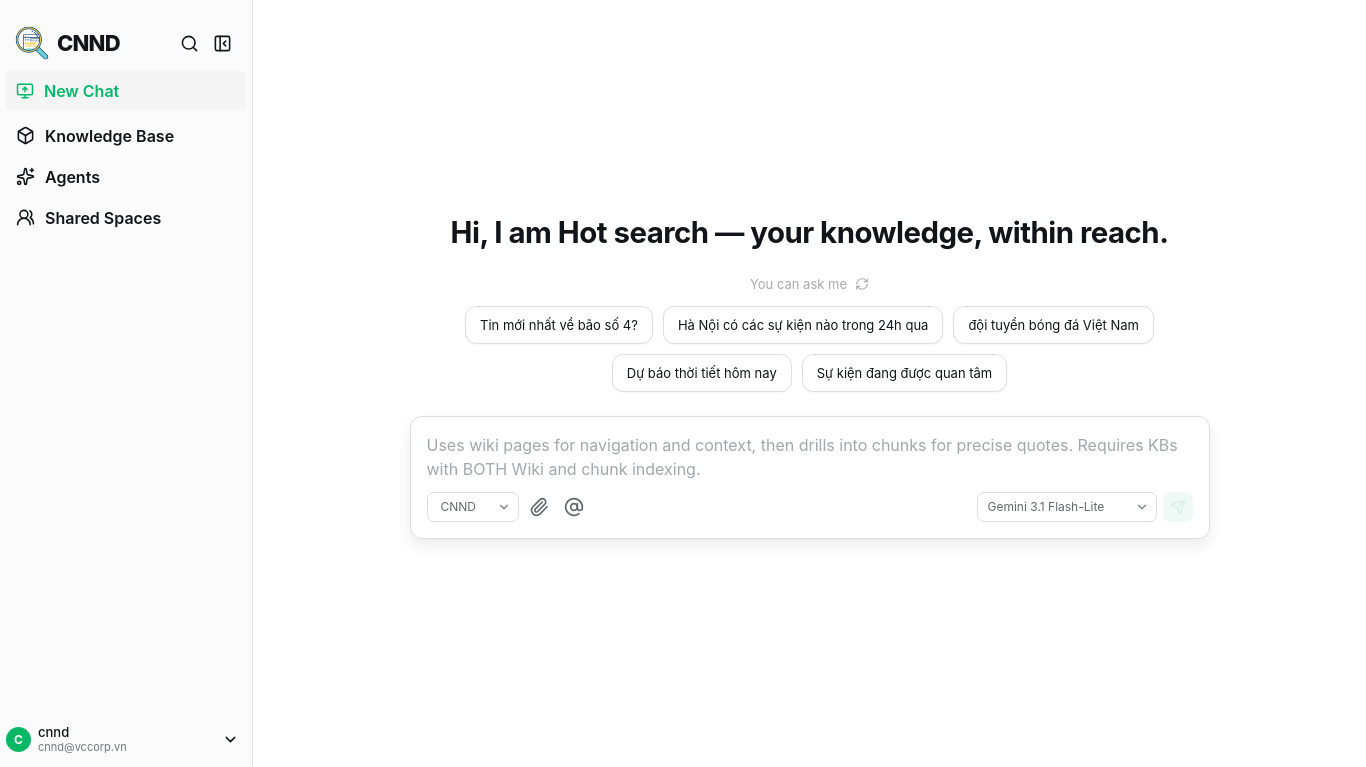
it: cnnd chat UI › loads and appends the next page of events with the backend cursor
Type "Danh sách sự kiện?" into the text box named "Message" at point(810, 460), box [426,433,1192,487]
Then press Enter
(page scrolled)
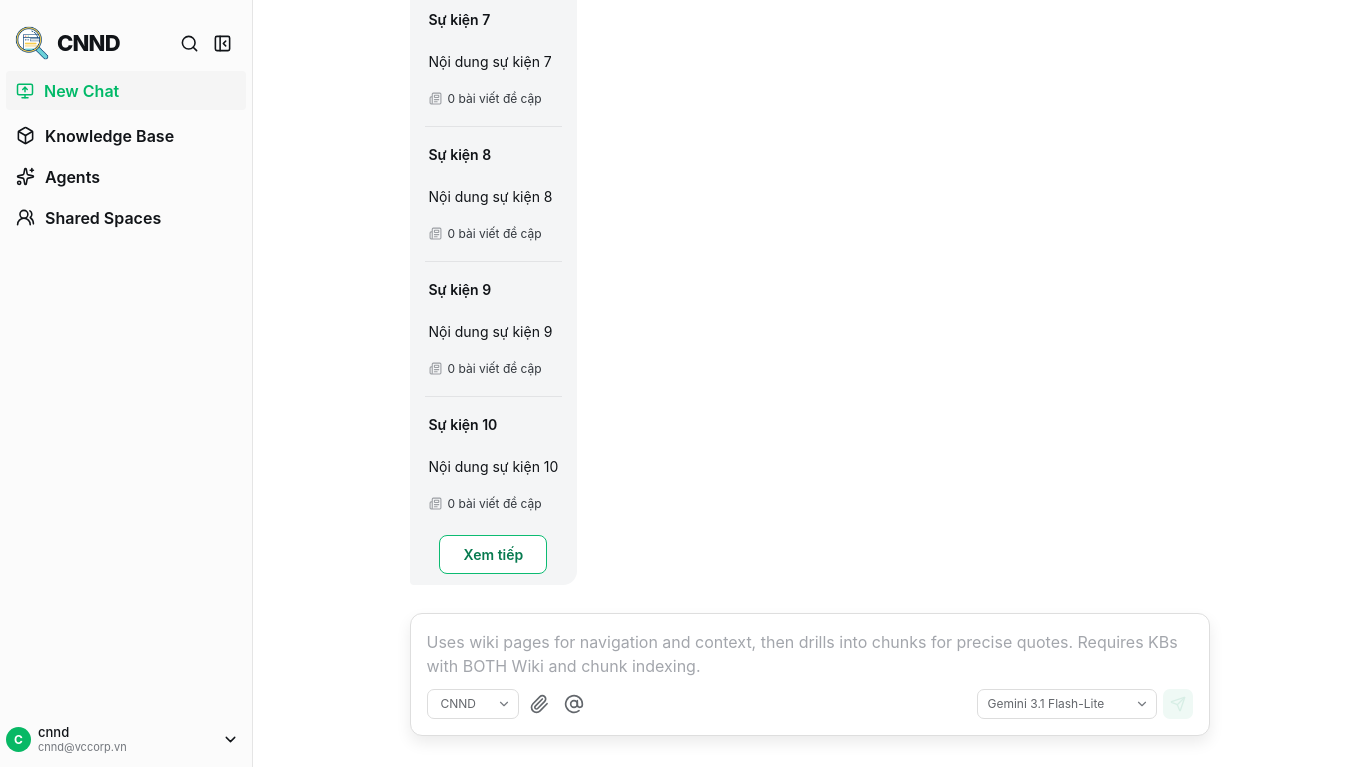
Click the button "Xem tiếp" at point(493, 554), box [439,535,547,574]
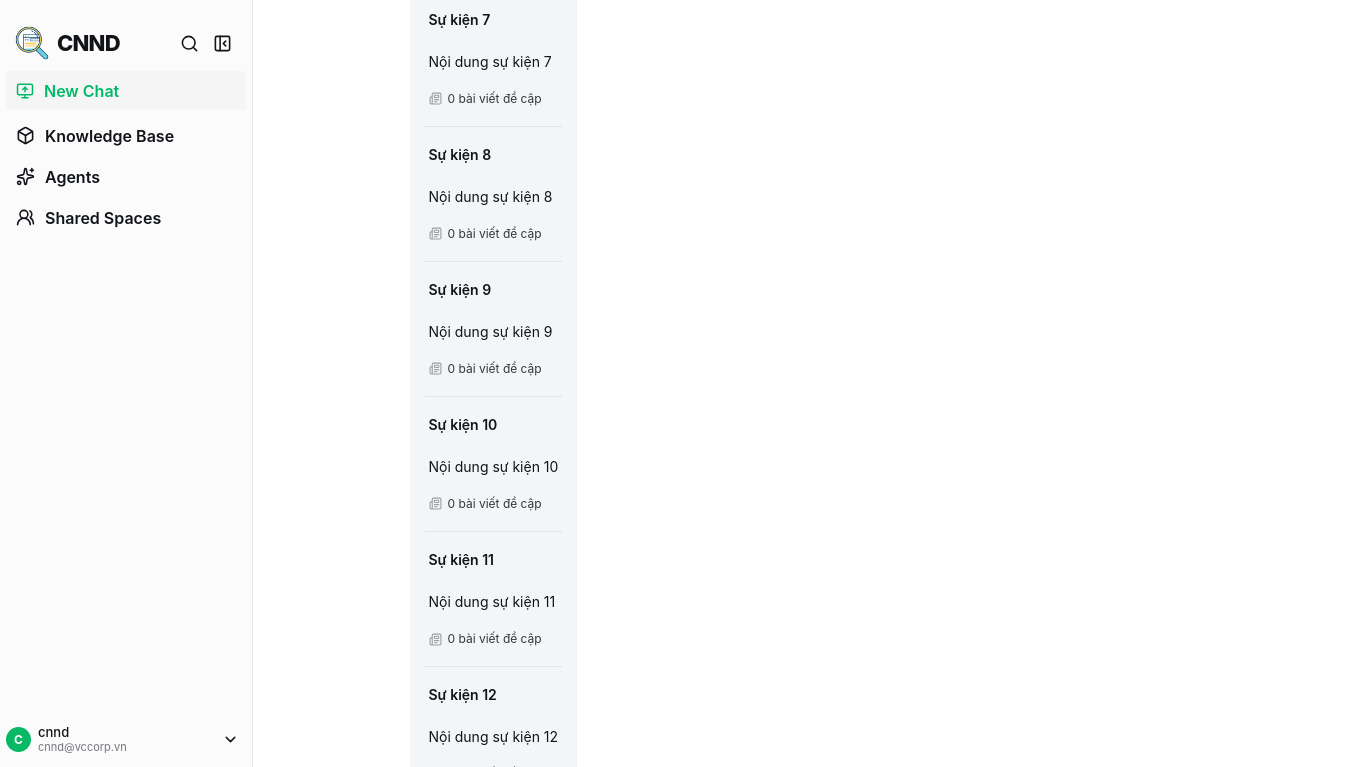
Result: the text "Sự kiện 11" is shown at [428,551,494,568]
Result: the text "Nội dung sự kiện 12" is shown at [428,725,558,748]
Result: the button "Xem tiếp" is gone
